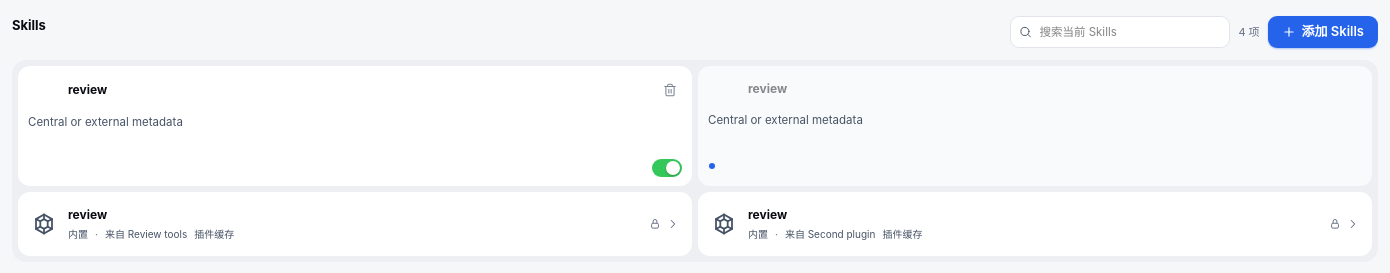
Test case: retains same-name central, external and plugin Skill identities in one searchable list
The image size is (1390, 273).
Expected: the number of list items is 4, [18, 66, 692, 186]; [698, 66, 1372, 186]; [18, 192, 692, 256]; [698, 192, 1372, 256]
Expected: the message reads "4 项", [1238, 25, 1260, 39]
Type "second@marketplace" into the search field labelled "搜索当前 Skills" at x=1120, y=32, box [1010, 16, 1230, 48]
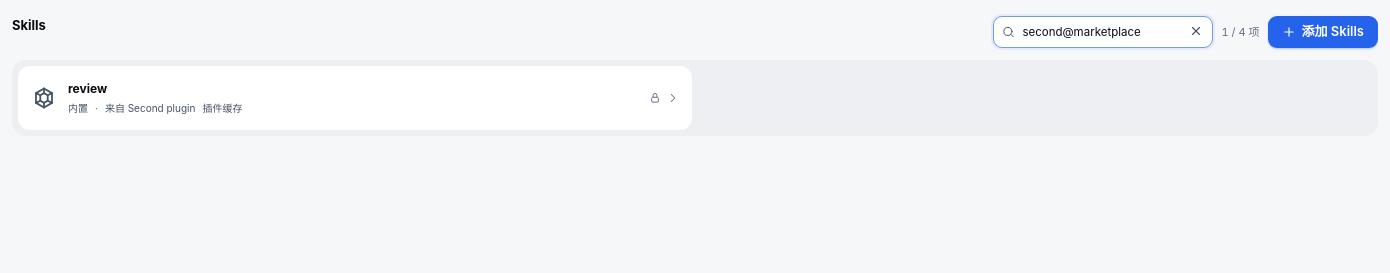
Expected: the text "来自 Second plugin" is shown, [95, 101, 195, 116]
Expected: the number of list items is 1, [18, 66, 692, 130]
Expected: the message reads "1 / 4 项", [1221, 25, 1260, 39]
Clear the search field named "搜索当前 Skills" at x=1103, y=32, box [993, 16, 1213, 48]
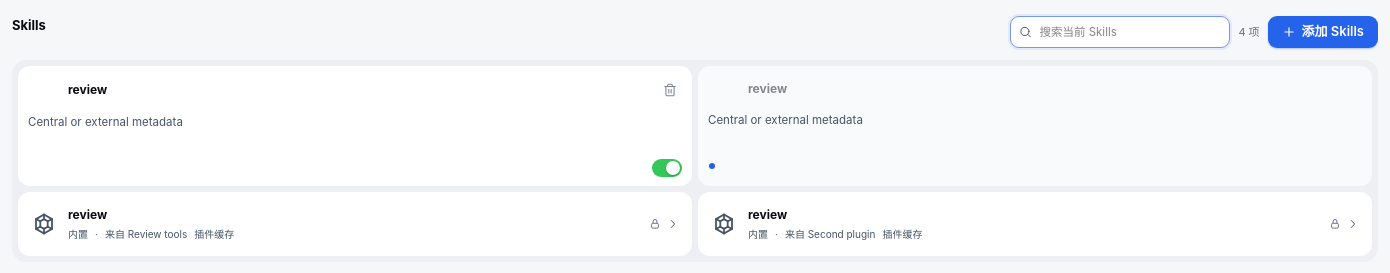
Type "review" into the search field labelled "搜索当前 Skills" at x=1120, y=32, box [1010, 16, 1230, 48]
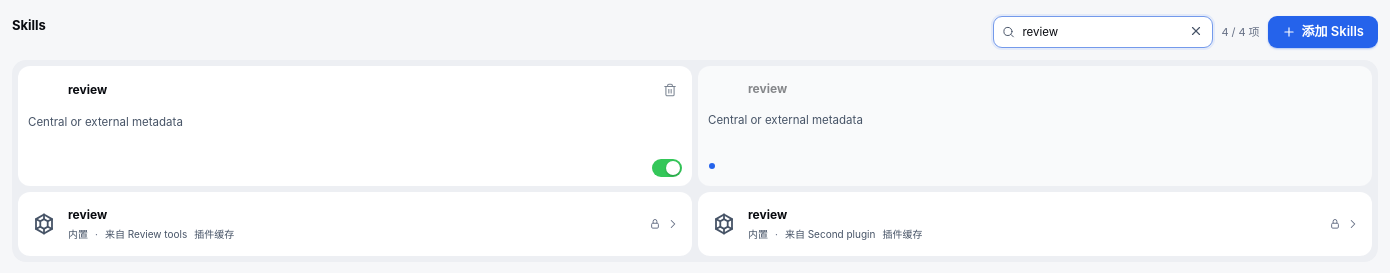
Expected: the number of list items is 4, [18, 66, 692, 186]; [698, 66, 1372, 186]; [18, 192, 692, 256]; [698, 192, 1372, 256]
Clear the search field named "搜索当前 Skills" at x=1103, y=32, box [993, 16, 1213, 48]
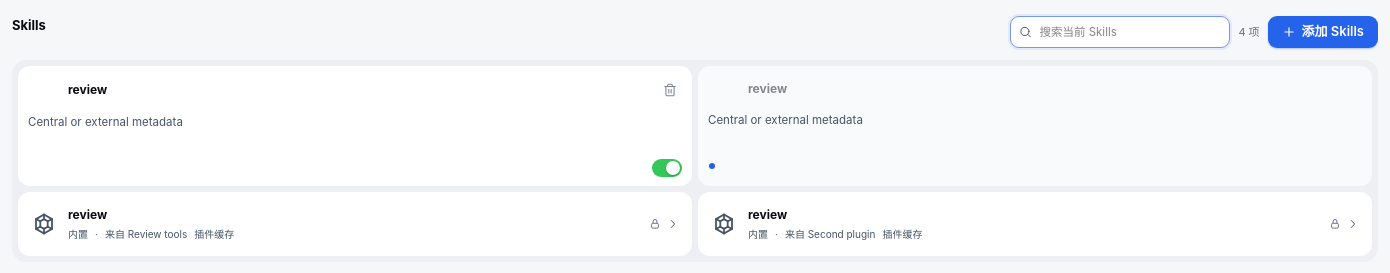
Type "missing" into the search field labelled "搜索当前 Skills" at x=1120, y=32, box [1010, 16, 1230, 48]
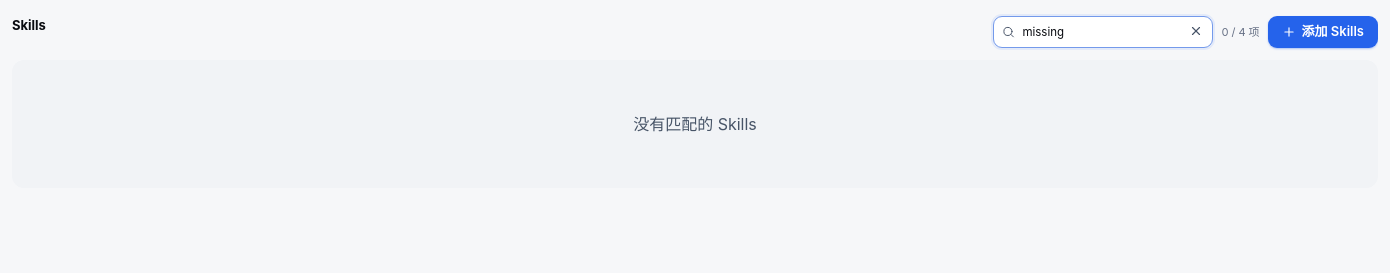
Expected: the text "没有匹配的 Skills" is shown, [12, 60, 1378, 188]
Expected: the message "0 / 4 项" is shown, [1221, 24, 1260, 40]
